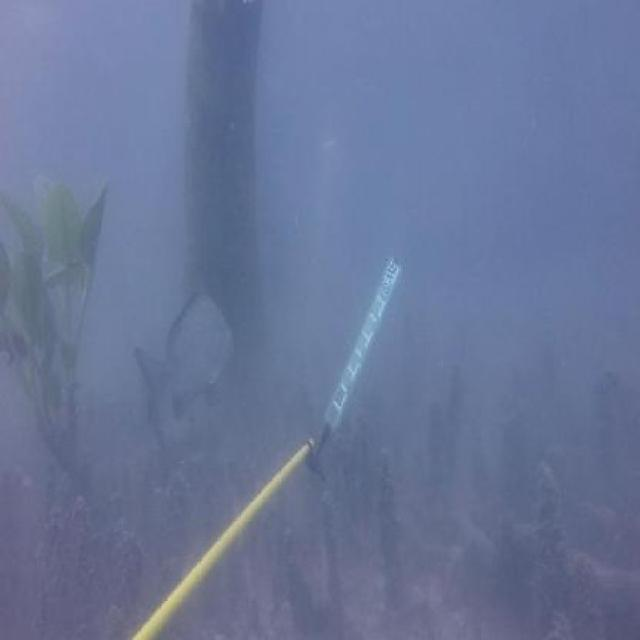acanthopagrus_palmaris: (132, 288, 240, 419)
